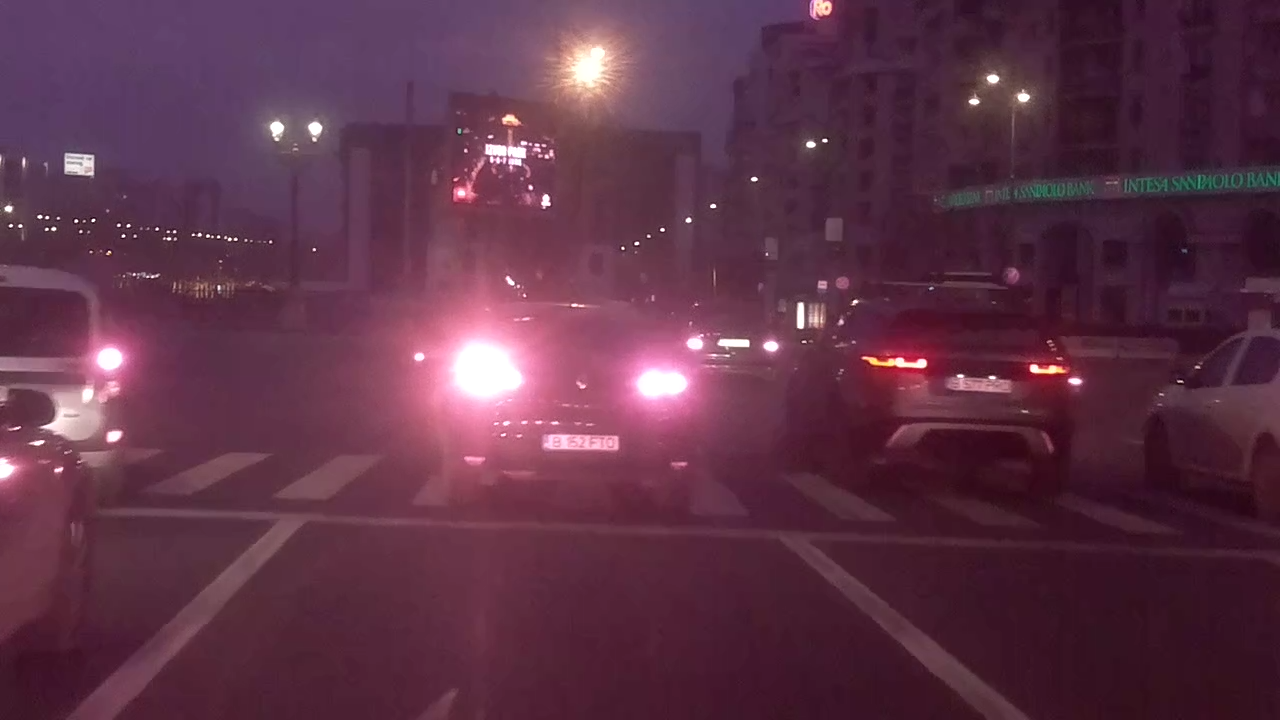license-plate: (539, 431, 623, 453)
